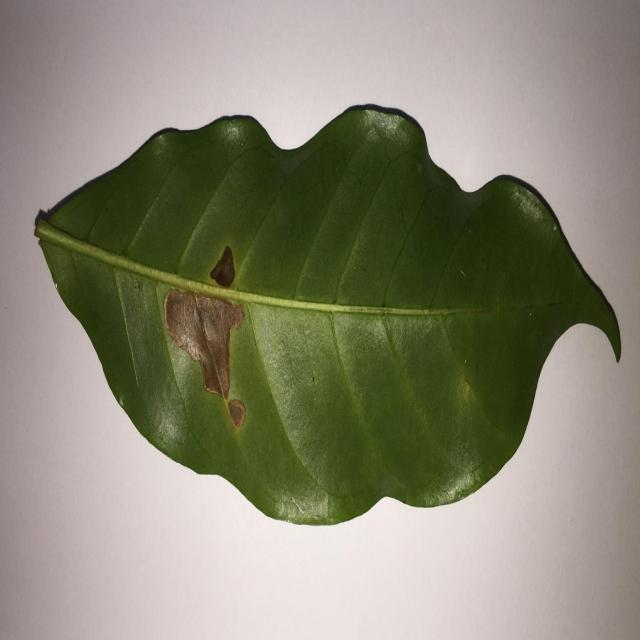Plaga-Minador: (33, 105, 623, 529)
